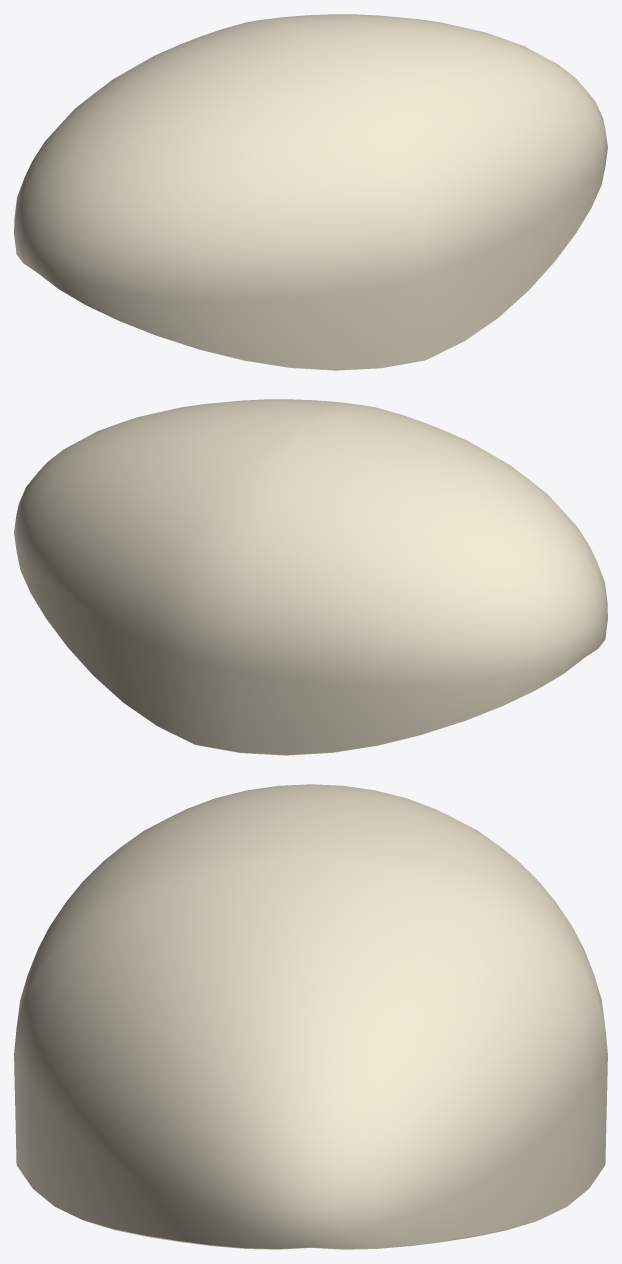
Rendered from cowrie_a4.glb.
The picture shows the model from 3 angles, top to bottom: view 1: azimuth 30°, elevation 25°; view 2: azimuth 150°, elevation 25°; view 3: azimuth 270°, elevation 25°; orthographic projection. The views are drawn at different scales.
Visible parts, largest first — view 1: cowrie_a4; view 2: cowrie_a4; view 3: cowrie_a4.
Boxes of the visible parts, box(x1,y1,x2,y2) form: cowrie_a4: box(14, 14, 607, 370); cowrie_a4: box(14, 399, 607, 755); cowrie_a4: box(14, 784, 607, 1249).
Size of the model in its own units: 0.023 by 0.00952 by 0.016.
